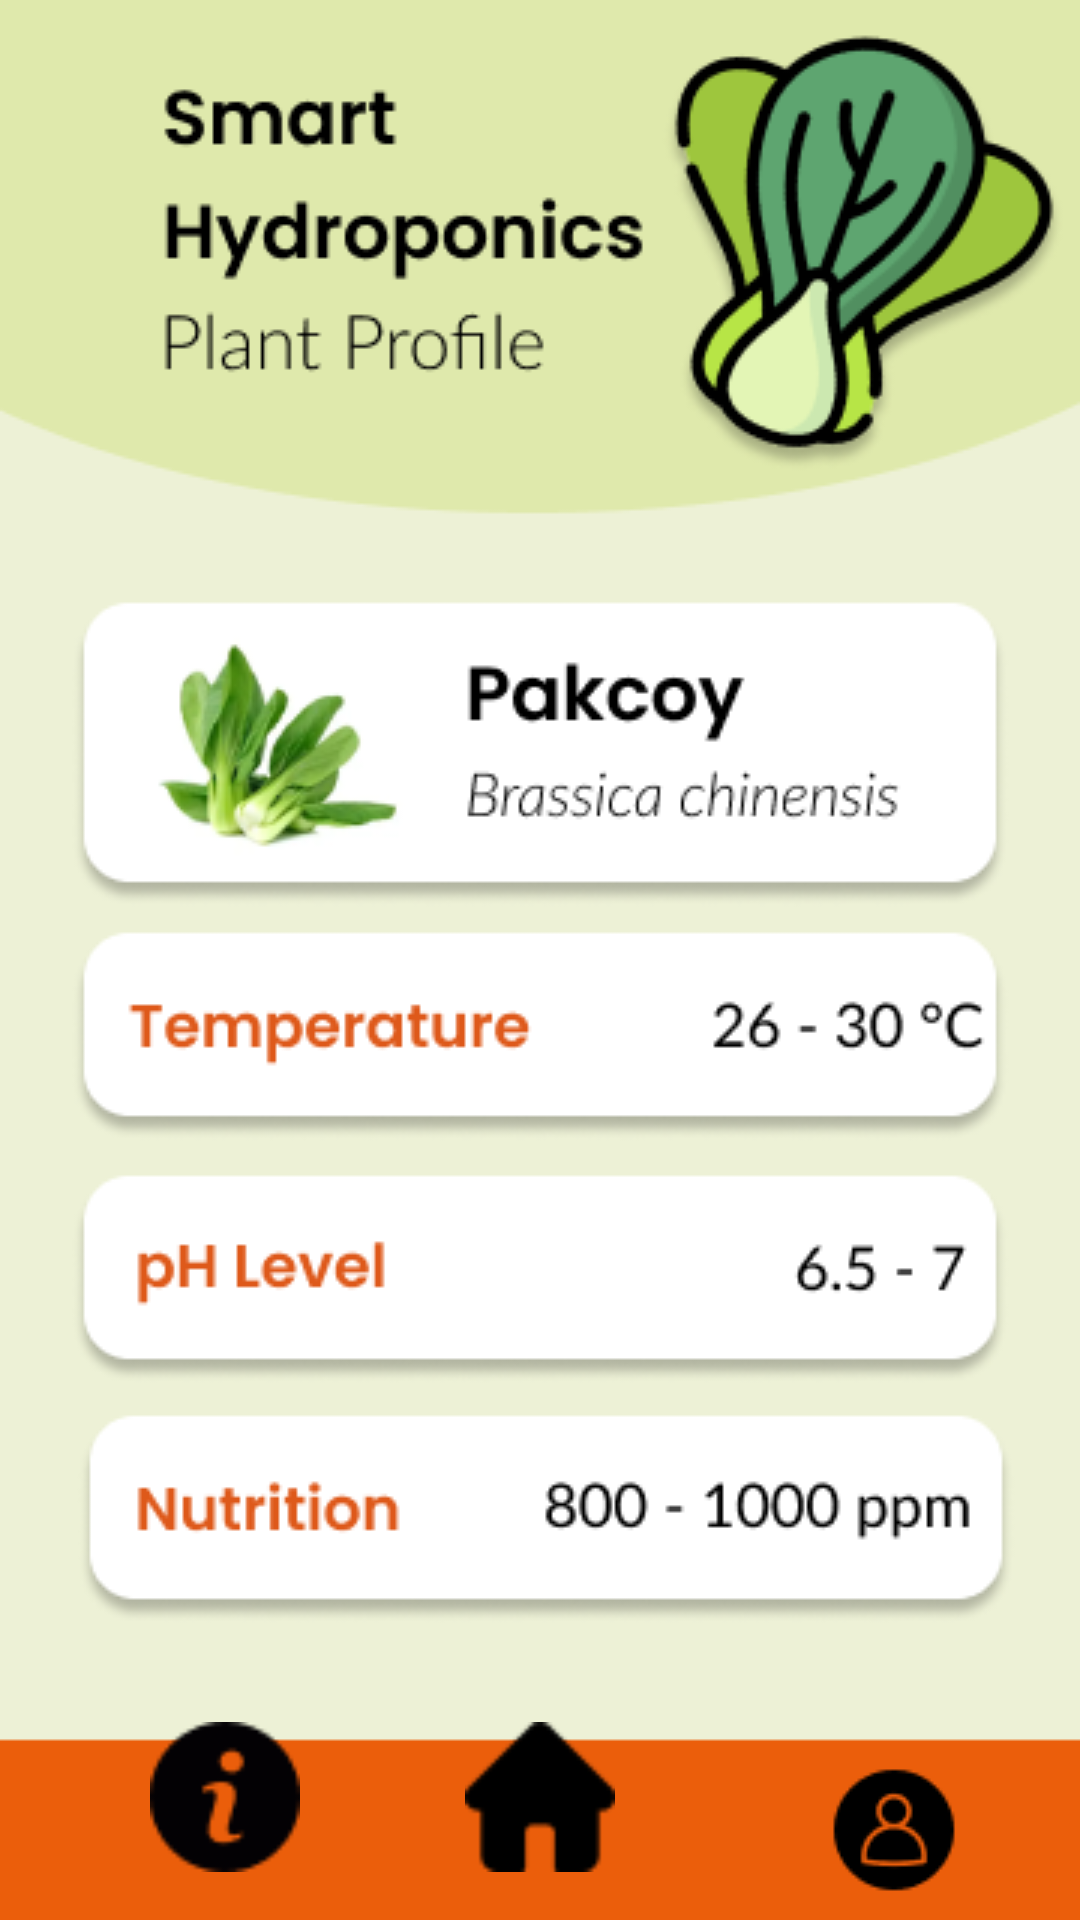

Icons on this 1080x1920 Android screen, each with the point to tap as (x,y):
home: (540,1797)
information: (225,1797)
